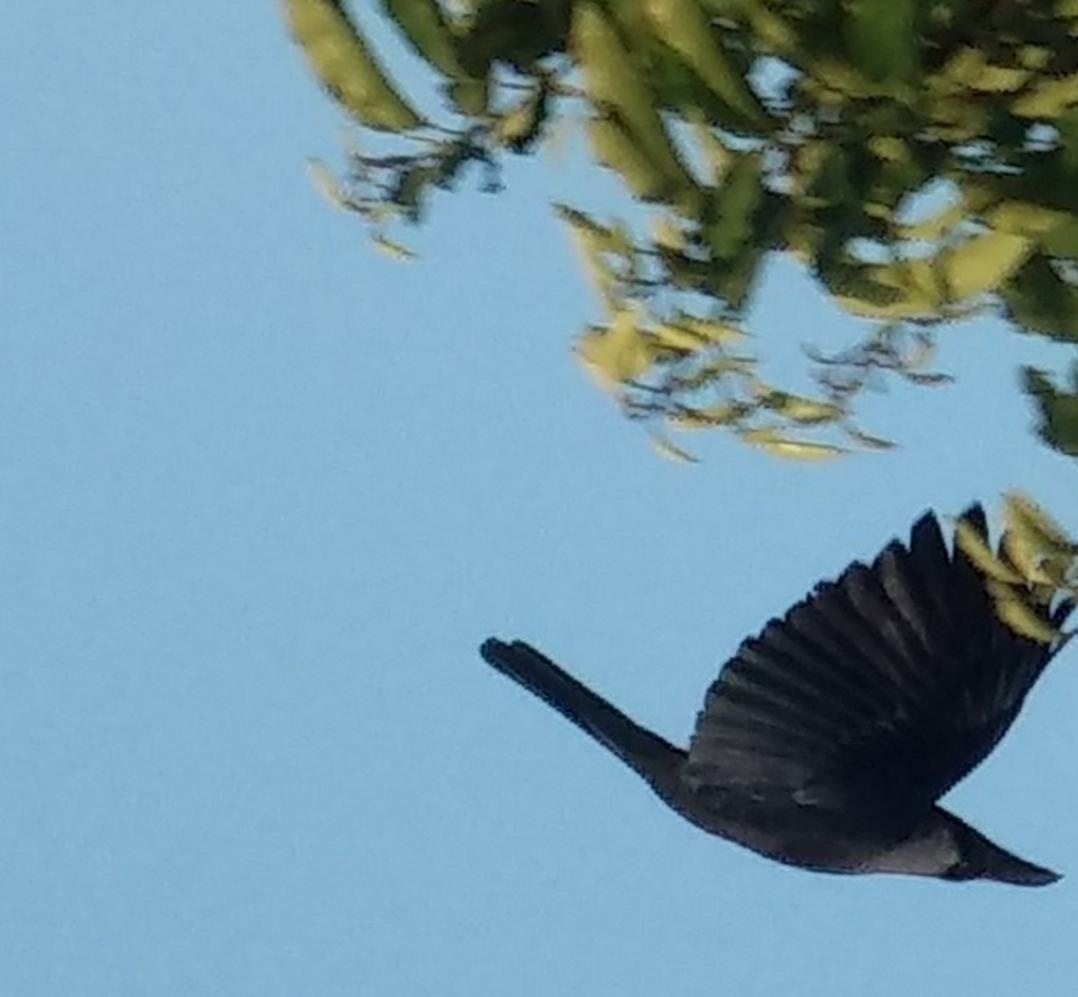crow: (471, 515, 1073, 923)
